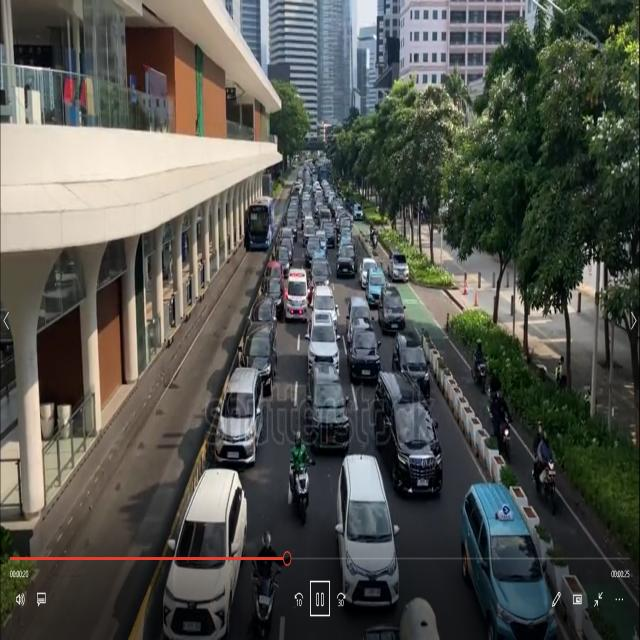Ambulance: (283, 261, 311, 325)
